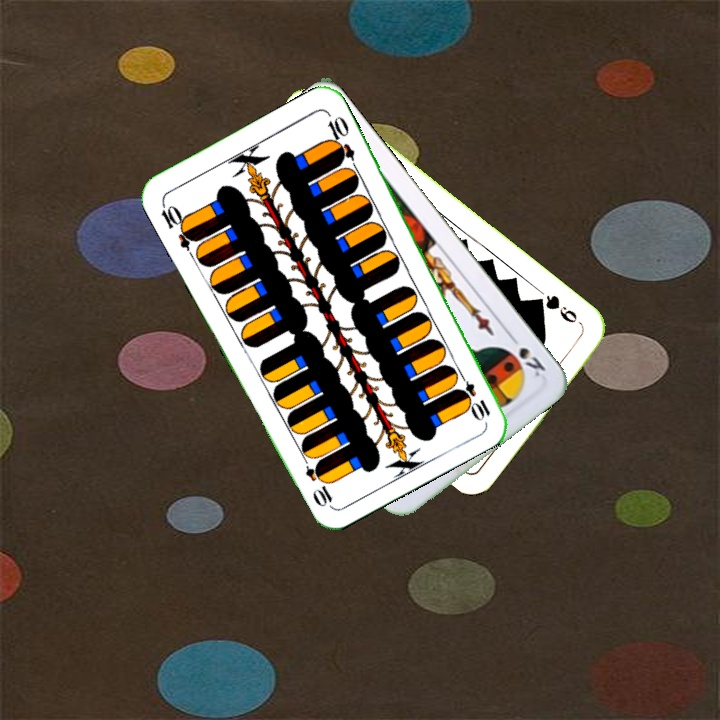E10: (157, 198, 200, 253), (454, 367, 494, 422)
G9: (531, 290, 586, 330)
SK: (505, 329, 549, 380)
